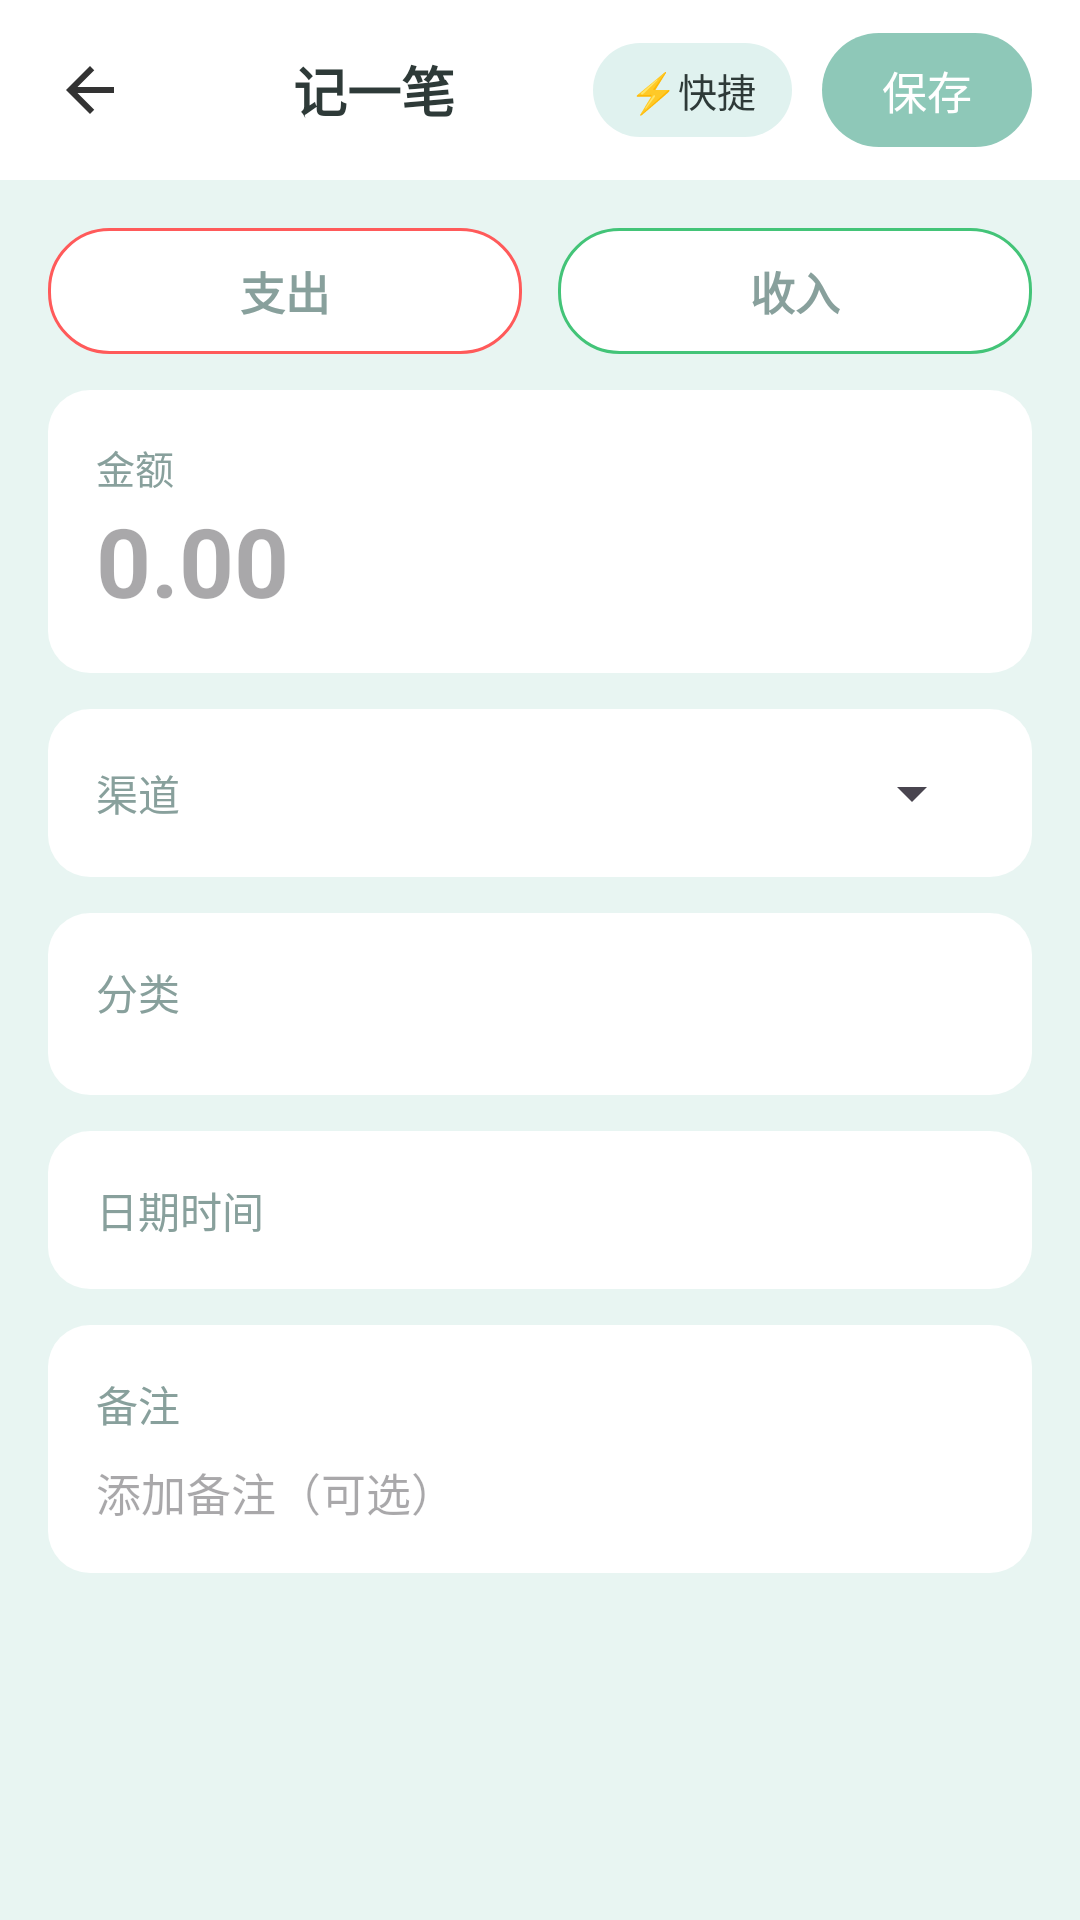

Locate icon controls on the screen. Image size 1080 x 1920, boxes as box=[x1, y1, x2, y2].
返回: box=[66, 66, 114, 114]
